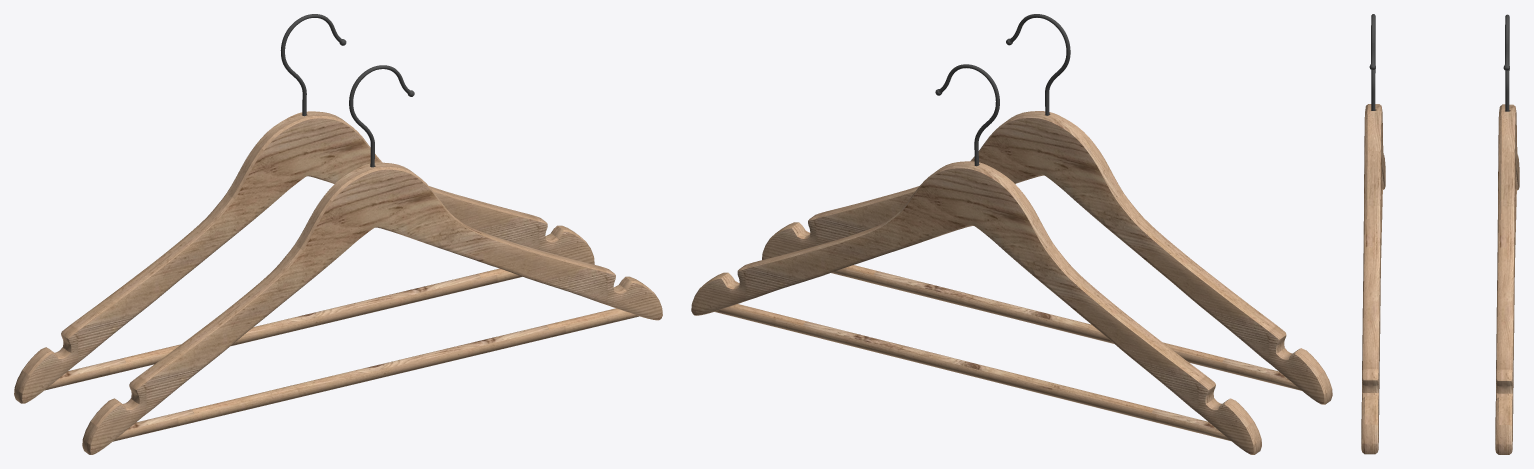
File: Percha.004.glb
3 views of the same model, side by side, from view 1: azimuth 30°, elevation 25°; view 2: azimuth 150°, elevation 25°; view 3: azimuth 270°, elevation 25° (orthographic). The views are drawn at different scales.
Visible parts, largest first — view 1: Armario_Percha.004; view 2: Armario_Percha.004; view 3: Armario_Percha.004.
Boxes of the visible parts, x1,y1,x2,y2 form: Armario_Percha.004: (14,14,662,454); Armario_Percha.004: (691,14,1332,454); Armario_Percha.004: (1361,14,1519,454).
Size of the model in its own units: 0.5227 by 0.278 by 0.13.
2 materials, 1 textured.
